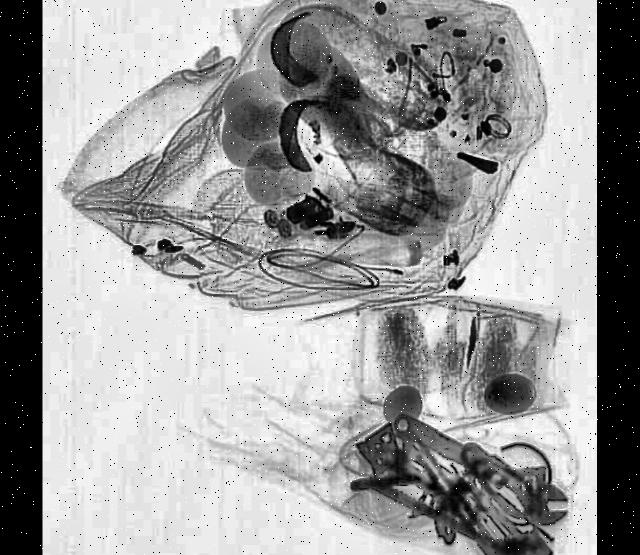Wrench: (386, 396, 574, 535)
